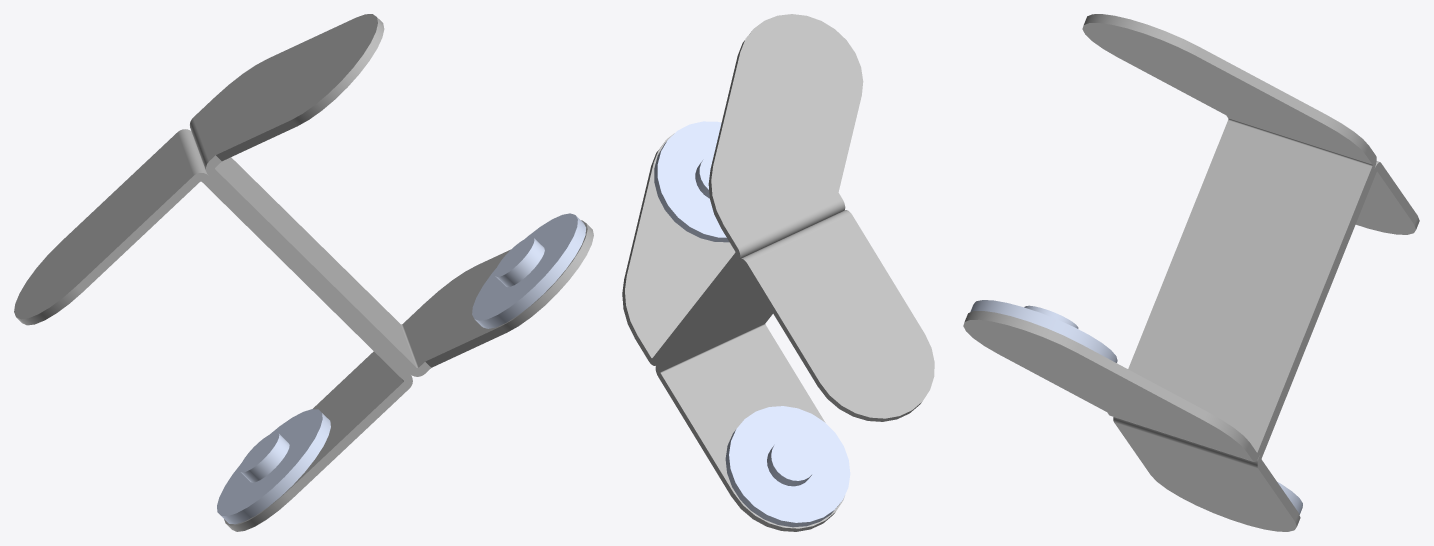
The model's file is r_wrist_link.dae.
3 renders of one model, left to right at view 1: azimuth 30°, elevation 25°; view 2: azimuth 150°, elevation 25°; view 3: azimuth 270°, elevation 25°, orthographic. The views are drawn at different scales.
Visible parts, largest first — view 1: Actor0; view 2: Actor0; view 3: Actor0.
Part boxes in pixels (bbox=[...]): Actor0: bbox=[14, 14, 593, 531]; Actor0: bbox=[622, 14, 934, 531]; Actor0: bbox=[963, 14, 1419, 531].
Bounding box in the file's own units: 0.0823 × 0.0947 × 0.0707.
